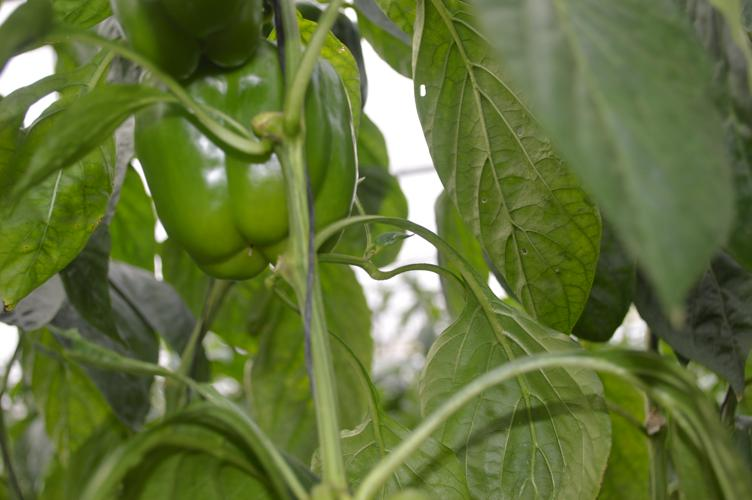BellPepper: (135, 43, 360, 277), (110, 3, 261, 74)
